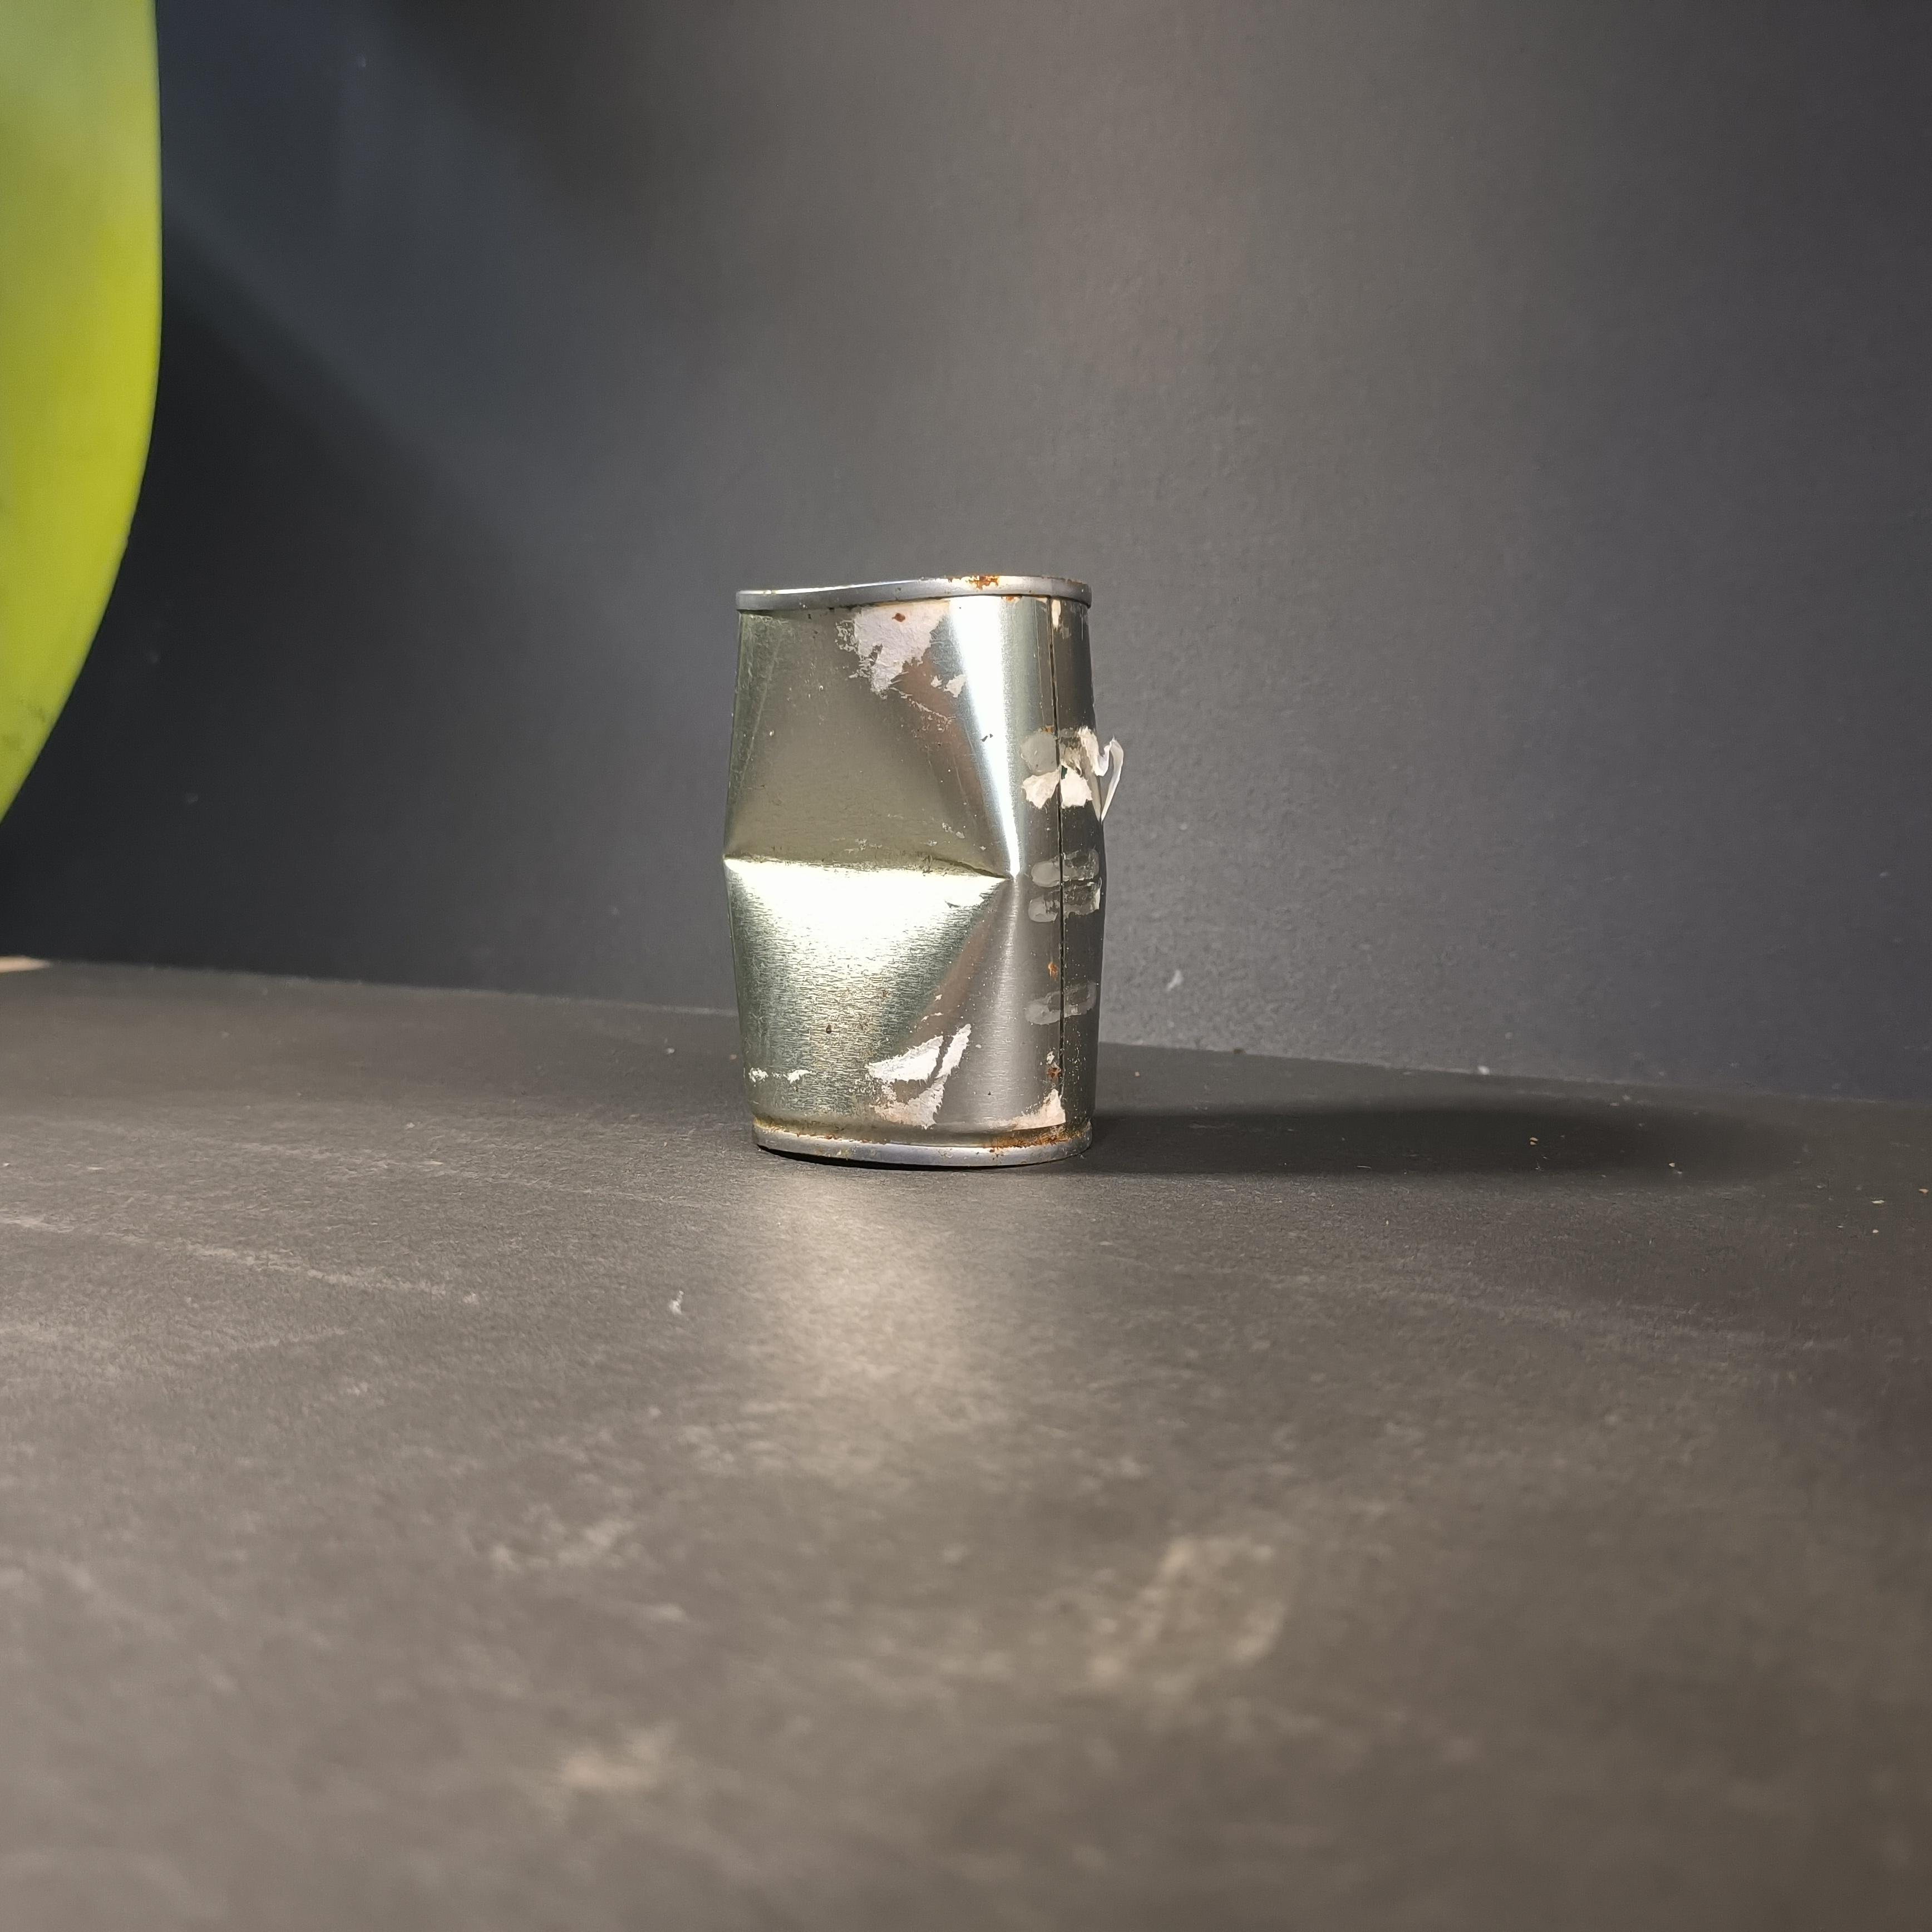Dented: (695, 548, 1129, 1215)
